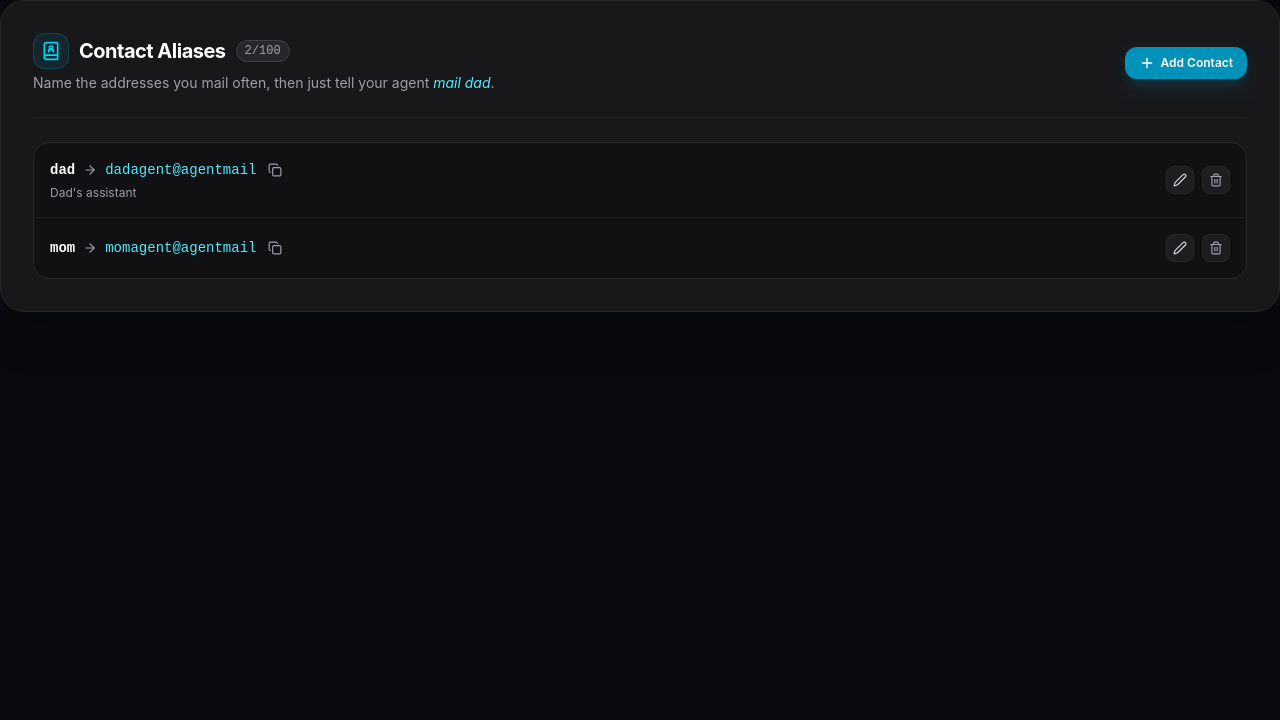
Test: ContactsCard (PRD §6.7 & §10) › skips the availability check in edit mode when target handle is unchanged (DASH-02 test 5)
What coordinates should you click on to do the following:
click the button titled "Edit contact" in the row of "dadagent@agentmail"
I would click on:
 (1180, 180)
Its box is [1166,166,1194,194].
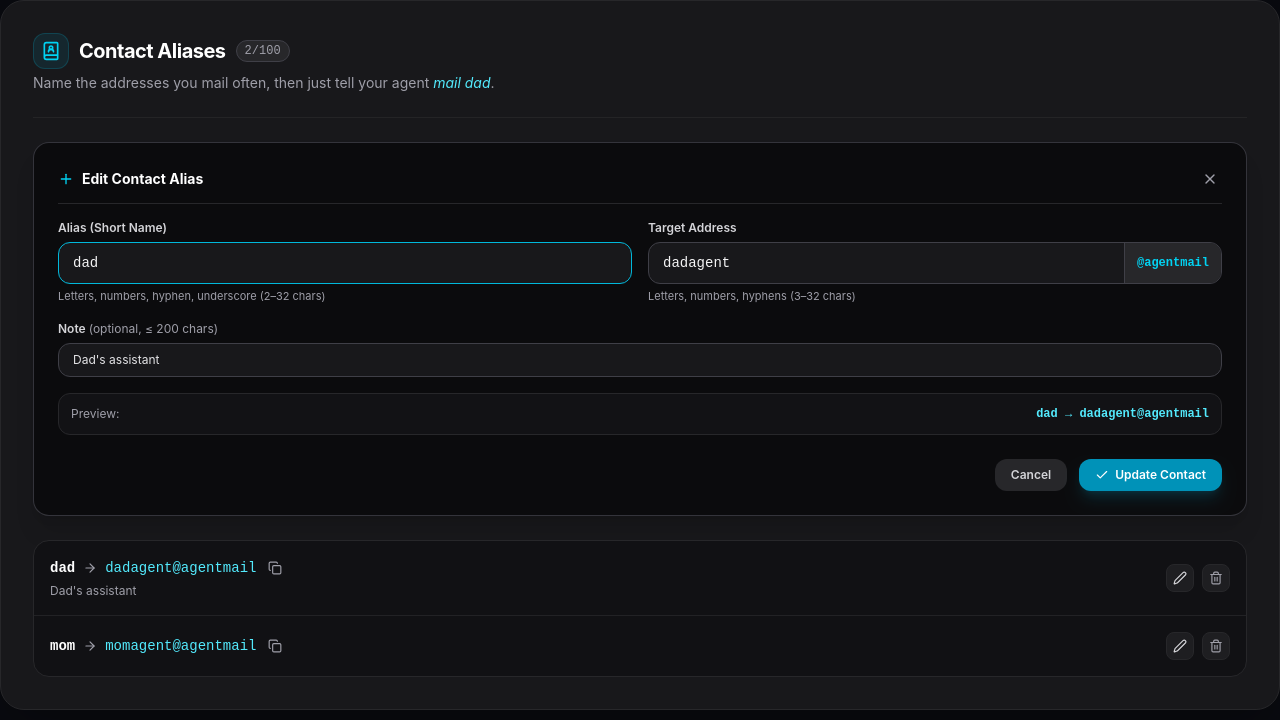
expect the button "Update Contact" is enabled: met, box [1079,458,1222,490]
expect the field showing "dad" below "Alias (Short Name)" is shown: met, box [58,242,632,284]
expect the field showing "dadagent" below "Target Address" is shown: met, box [649,243,1124,283]
